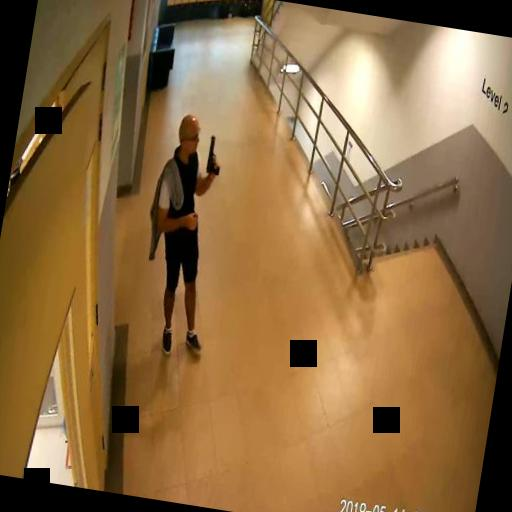Handgun: (204, 134, 222, 174)
